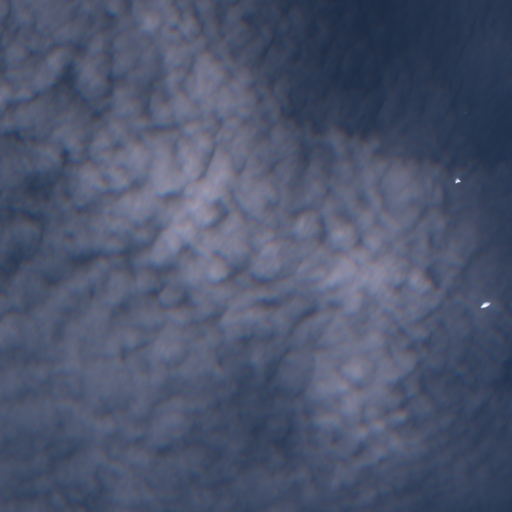Iceberg: (481, 302, 489, 307), (455, 179, 460, 182)
